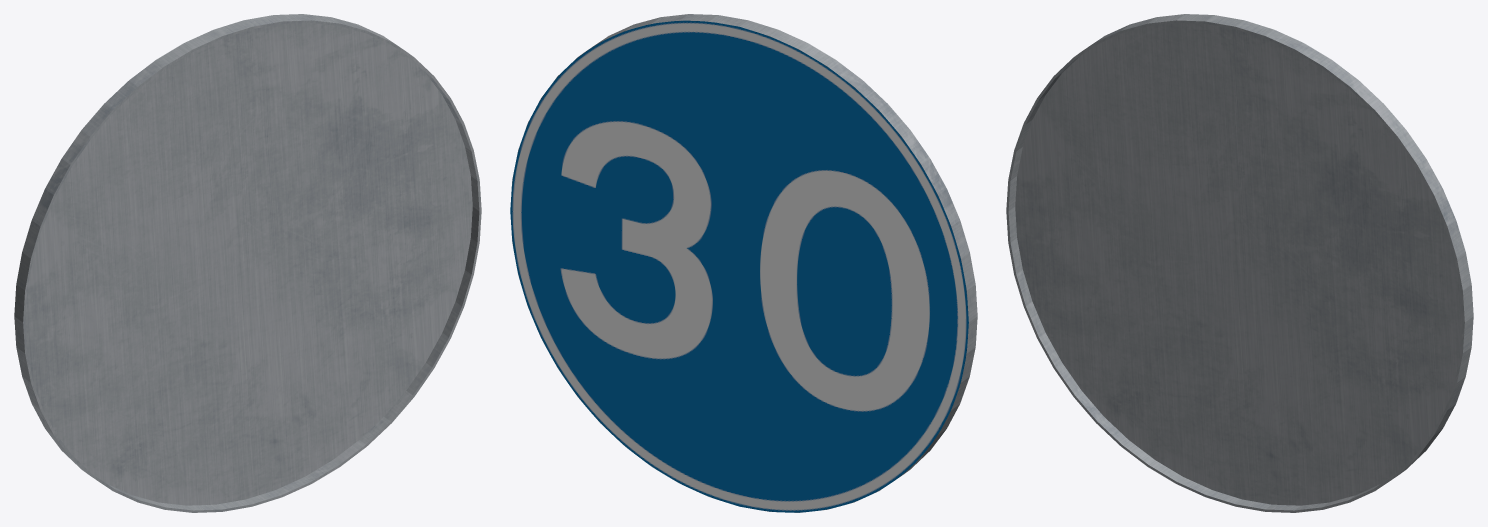
File: Minimum_speed_limit_30.fbx
The picture shows the model from 3 angles, left to right: view 1: azimuth 30°, elevation 25°; view 2: azimuth 150°, elevation 25°; view 3: azimuth 330°, elevation 25°; orthographic projection.
Visible parts, largest first — view 1: Minimum speed limit 30; view 2: Minimum speed limit 30; view 3: Minimum speed limit 30.
Part boxes in pixels (<box>): Minimum speed limit 30: <box>14,14,481,512</box>; Minimum speed limit 30: <box>510,14,977,512</box>; Minimum speed limit 30: <box>1006,14,1473,512</box>.
Bounding box in the file's own units: 0.02 × 0.6 × 0.6.
